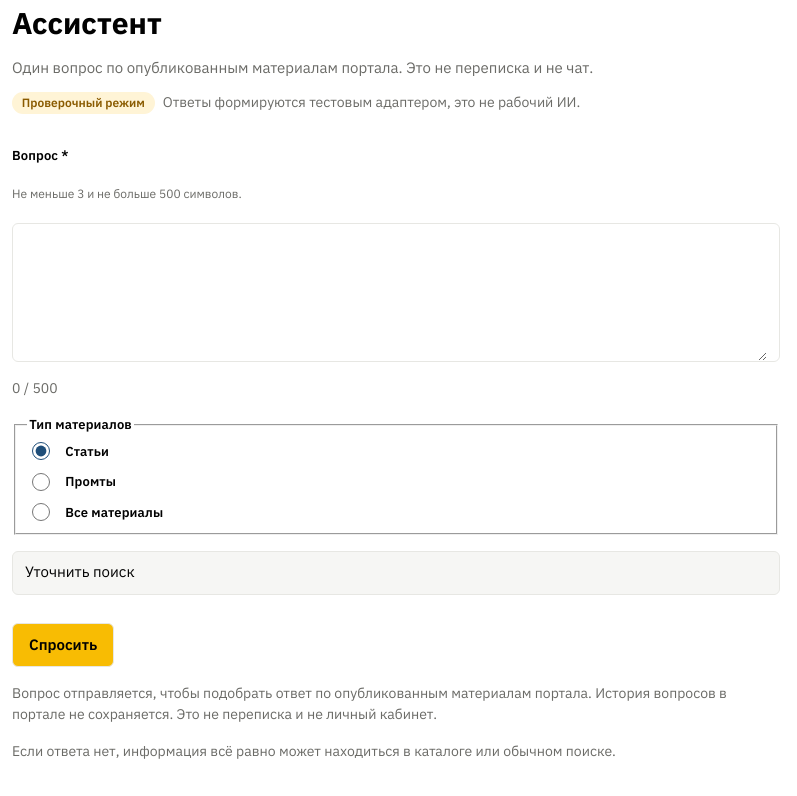
Test: assistant hardening states › hides previous answer when a later request fails
The image size is (797, 796).
Type "Как оформить отпуск?" into the text box labelled "Вопрос *" at (396, 293), box x1=25 y1=224 x2=767 y2=361
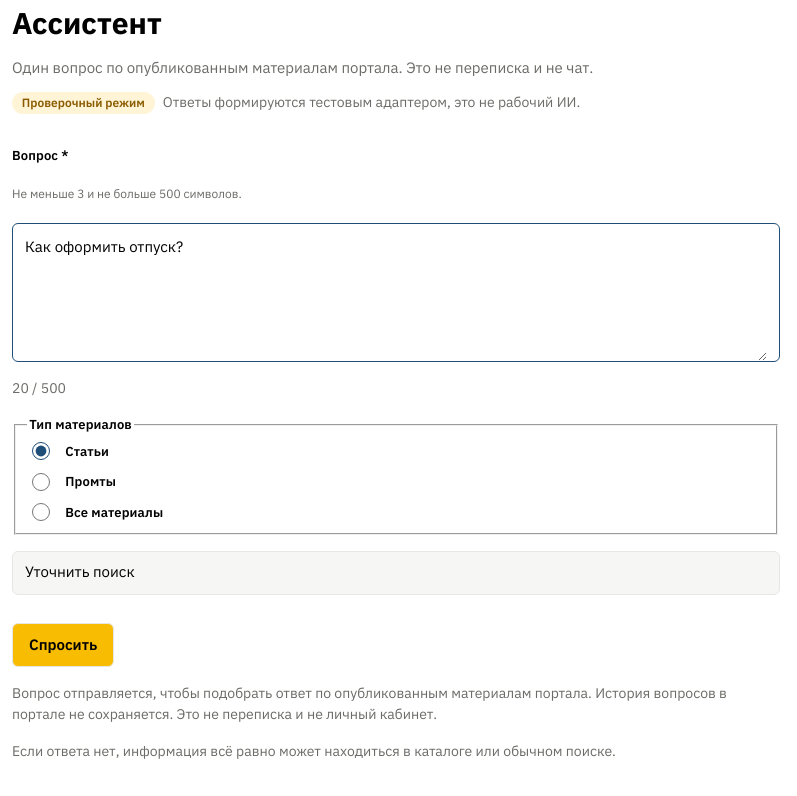
Click the button "Спросить" at (63, 644), box x1=12 y1=622 x2=114 y2=666
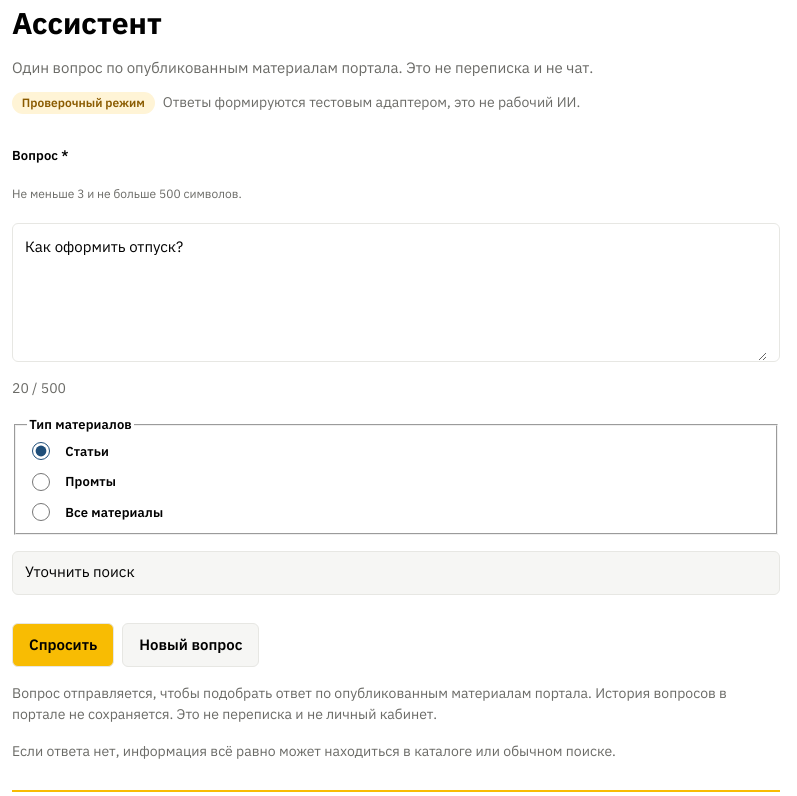
Click the button "Спросить" at (63, 644), box x1=12 y1=622 x2=114 y2=666
(page scrolled)
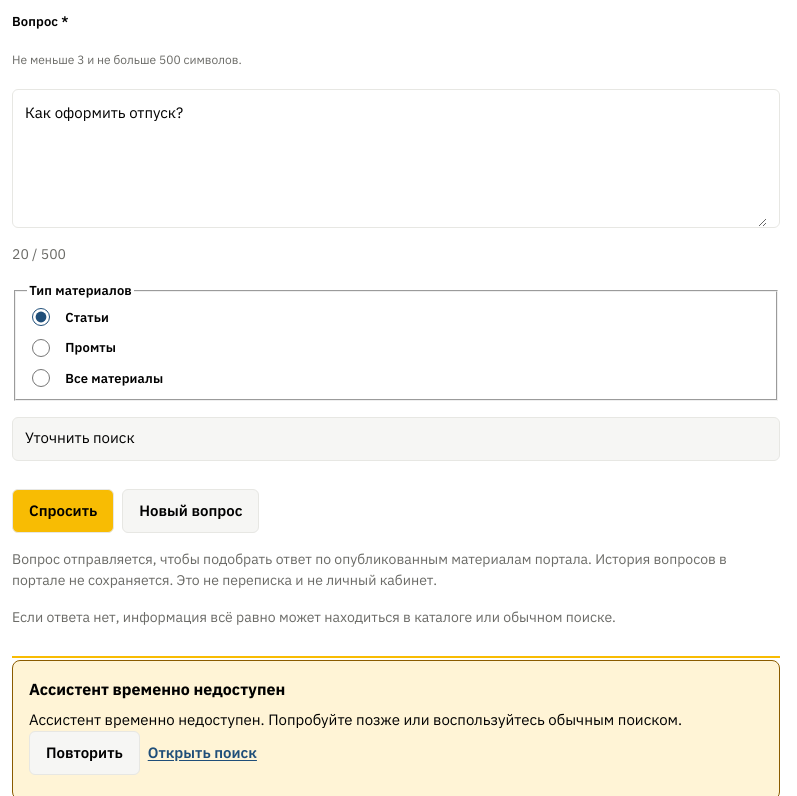
Expected: the button "Повторить" is shown, x1=29 y1=731 x2=140 y2=775
